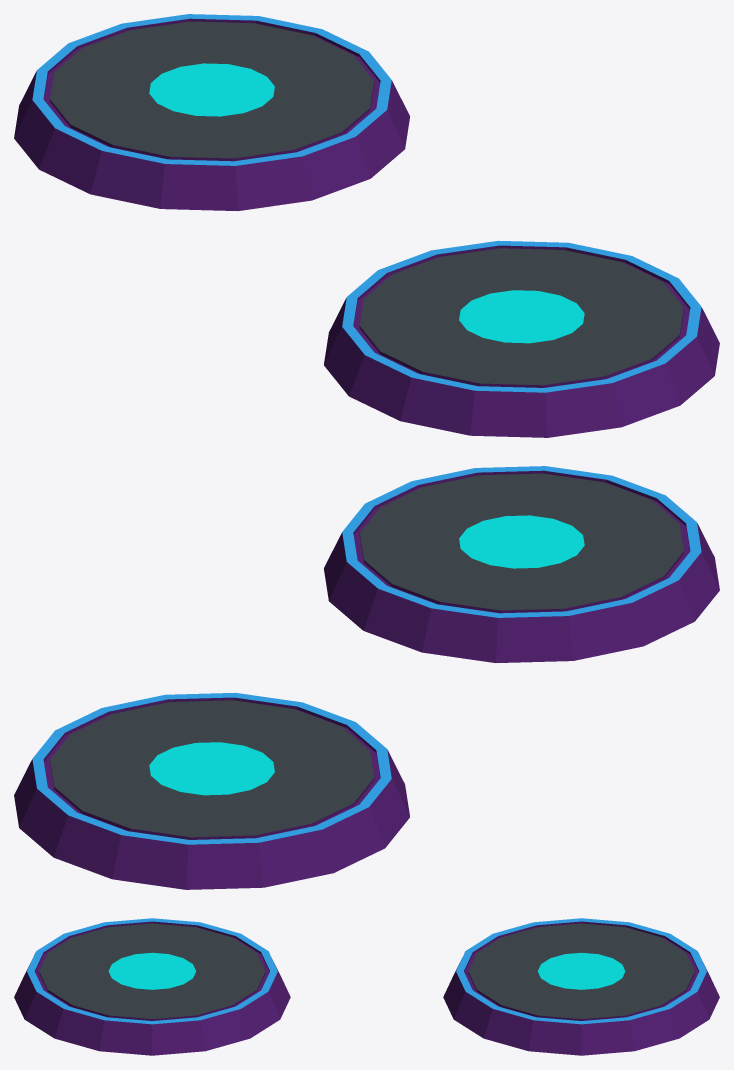
The model's file is poap_button.glb.
3 renders of one model, top to bottom at view 1: azimuth 30°, elevation 25°; view 2: azimuth 150°, elevation 25°; view 3: azimuth 270°, elevation 25°, orthographic. The views are drawn at different scales.
Parts seen in each view (by area): view 1: 柱体.002; view 2: 柱体.002; view 3: 柱体.002.
Boxes of the visible parts, box(x1,y1,x2,y2) form: 柱体.002: box(14, 14, 719, 437); 柱体.002: box(14, 466, 719, 889); 柱体.002: box(14, 918, 719, 1055).
Size of the model in its own units: 1.7 by 0.1758 by 4.34.
Materials: 1 (1 with a texture image).
